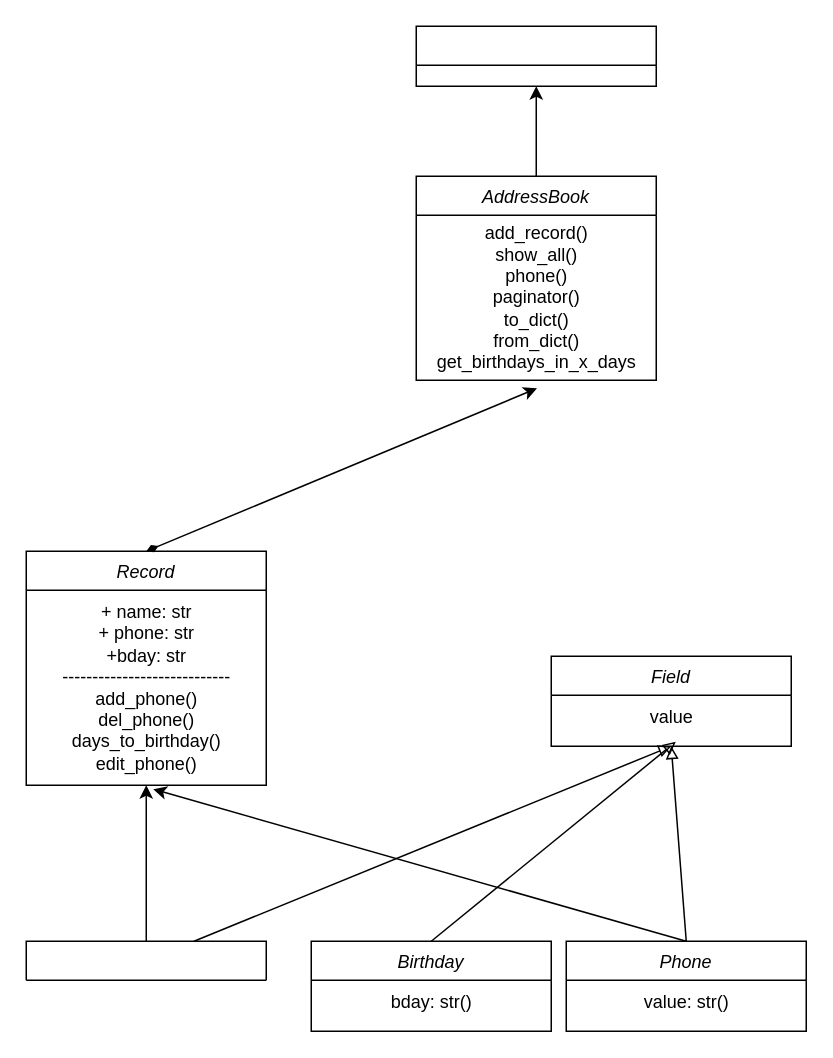
Some shapes in this 833 by 1058 pixel diagram are drawn without their labels. Here are the shapes that lost their labels. From the top down, the centre of each, then its label:
[535,55]: UserDict
[145,960]: Name
